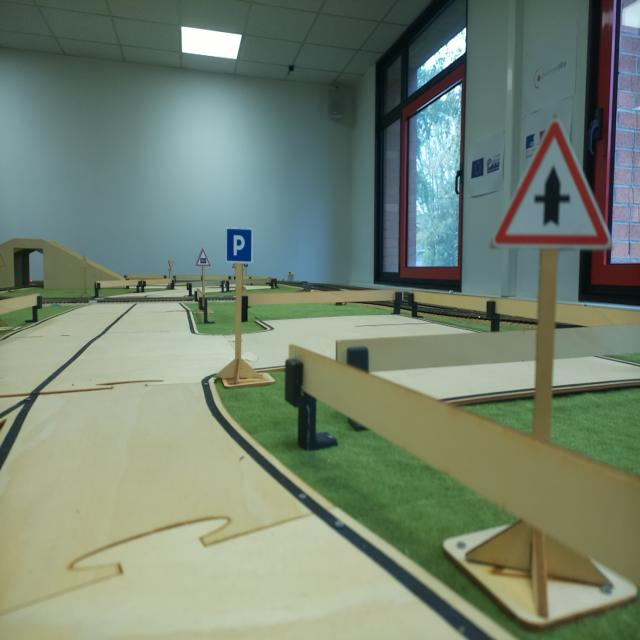panneau_intersection: (501, 118, 606, 262)
panneau_parking: (225, 223, 255, 266)
